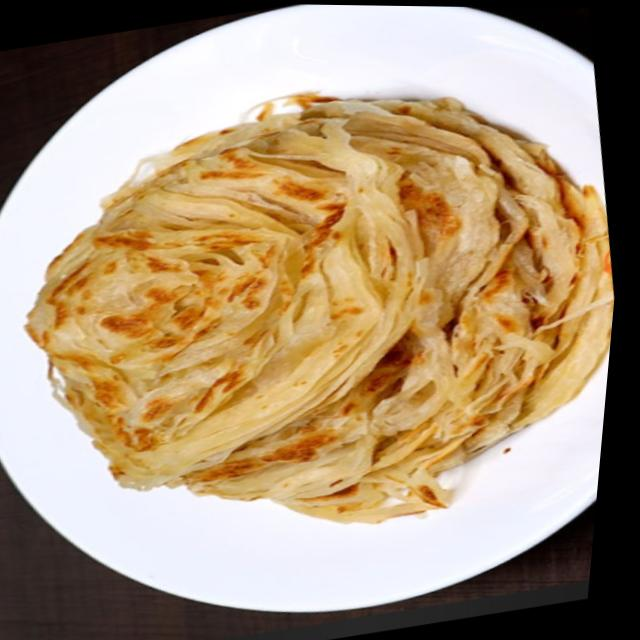PAROTTA: (19, 92, 613, 526)
